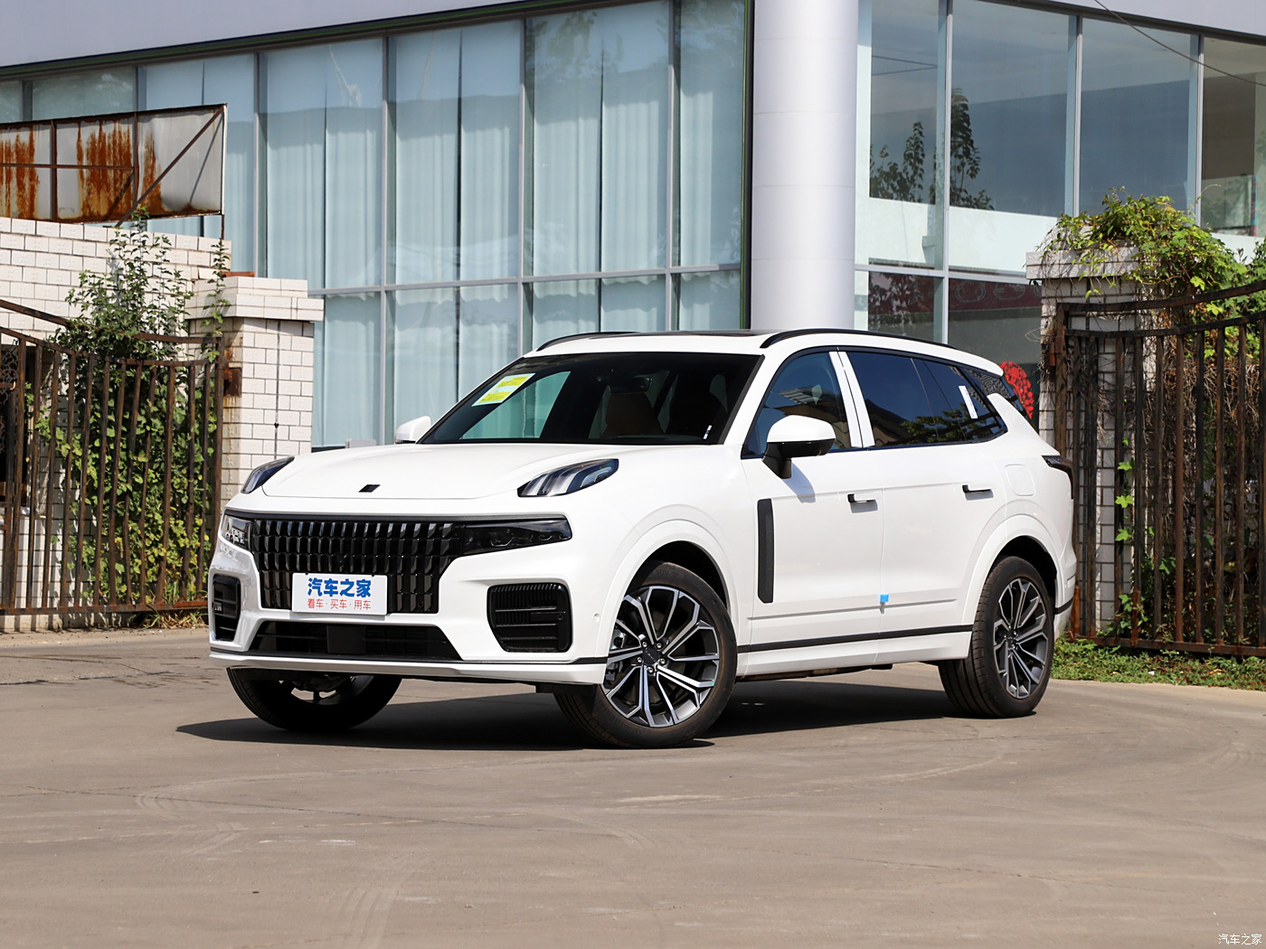LINK&CO: (358, 484, 380, 493)
